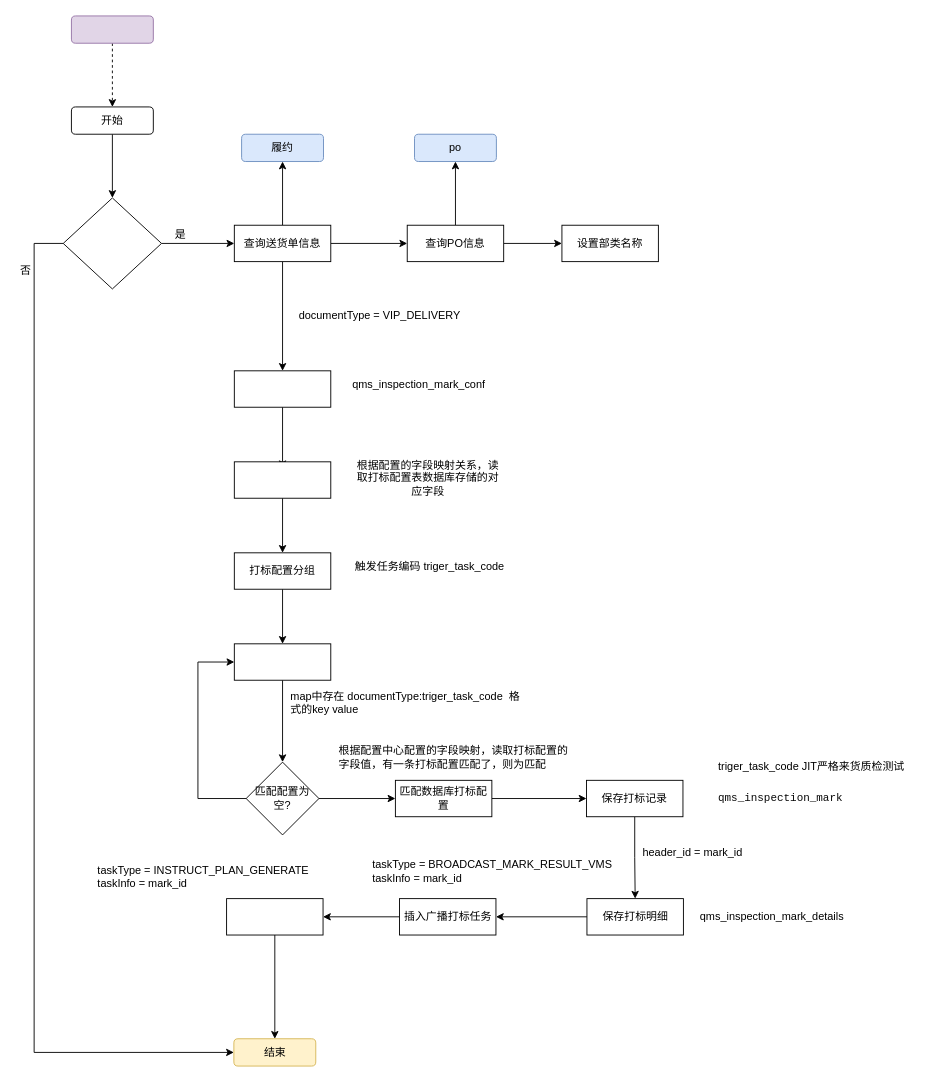
This 941x1082 diagram has some shape labels left out. The centre of each missing label's shape, as x and y in pixels:
CREATE类型且送货单号不为空: the point at 112,243
VMS消息: the point at 112,29
打标配置映射匹配打标配置: the point at 282,661
插入生成指令计划任务: the point at 274,916
查询打标配置: the point at 282,388
配置中心获取打标配置映射关系: the point at 282,479
